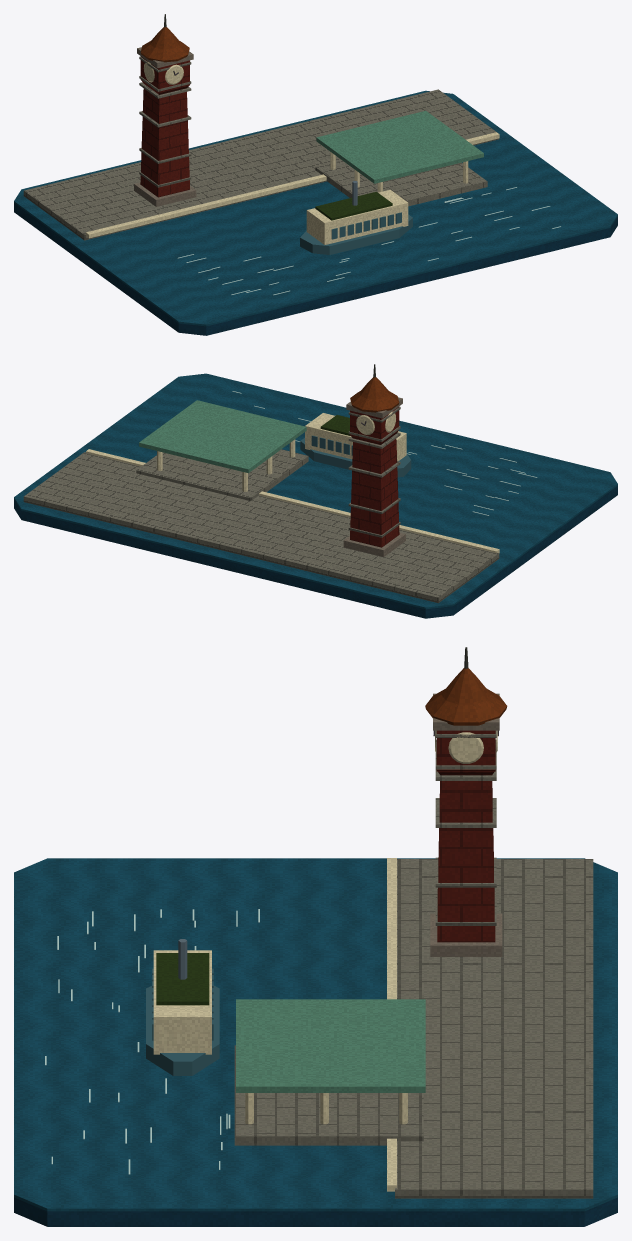
File: victoria-harbour.glb
The picture shows the model from 3 angles, top to bottom: view 1: azimuth 30°, elevation 25°; view 2: azimuth 150°, elevation 25°; view 3: azimuth 270°, elevation 25°; orthographic projection. The views are drawn at different scales.
Parts seen in each view (by area): view 1: 维多利亚港·尖沙咀海滨; view 2: 维多利亚港·尖沙咀海滨; view 3: 维多利亚港·尖沙咀海滨.
Part boxes in pixels (box(x1,y1,x2,y2)): 维多利亚港·尖沙咀海滨: box(14, 14, 617, 335); 维多利亚港·尖沙咀海滨: box(14, 364, 617, 618); 维多利亚港·尖沙咀海滨: box(14, 647, 617, 1226).
Bounding box in the file's own units: 10.7 × 4.57 × 7.8.
14 materials, 10 textured.
